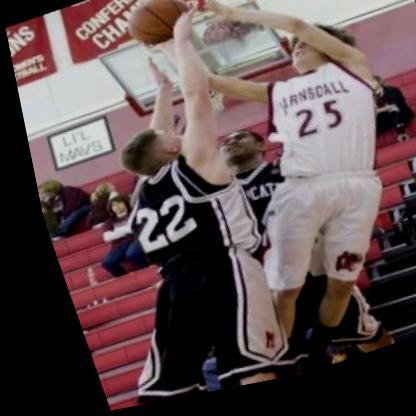basketball: (110, 0, 203, 61)
